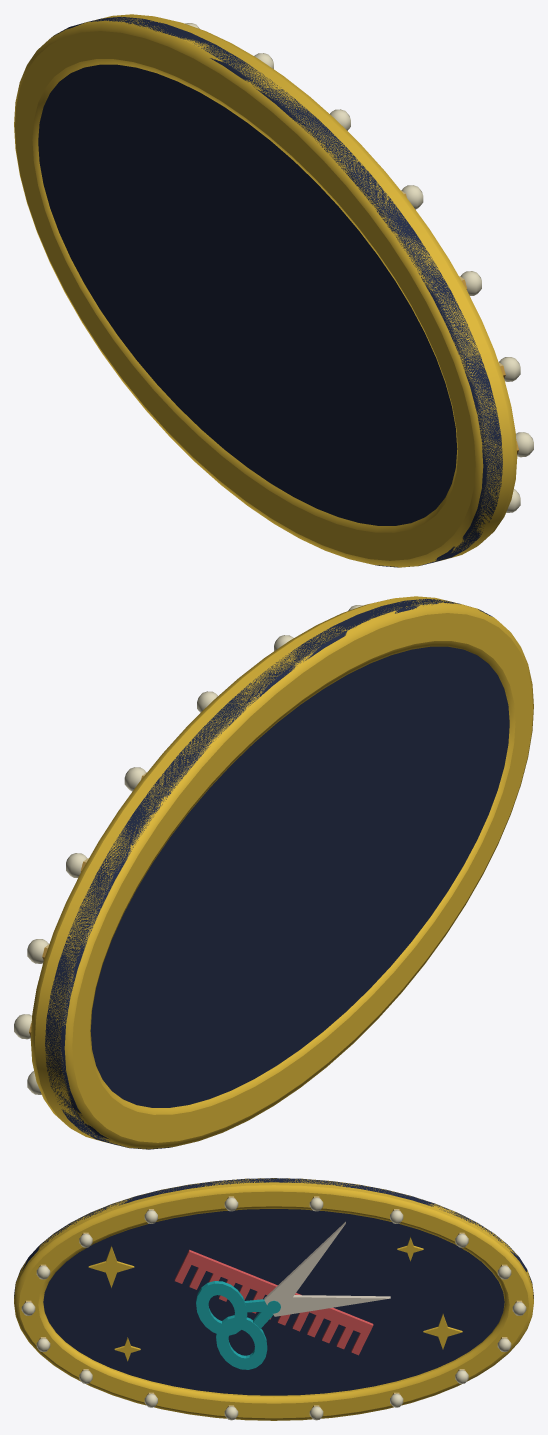
The model's file is sign.glb.
The picture shows the model from 3 angles, top to bottom: view 1: azimuth 30°, elevation 25°; view 2: azimuth 150°, elevation 25°; view 3: azimuth 270°, elevation 25°; orthographic projection. The views are drawn at different scales.
Parts seen in each view (by area): view 1: Sign; view 2: Sign; view 3: Sign.
Part boxes in pixels (x1,y1,x2,y2): Sign: [14, 14, 533, 567]; Sign: [14, 596, 533, 1149]; Sign: [14, 1178, 533, 1420].
Size of the model in its own units: 0.1295 by 0.8 by 1.6.
